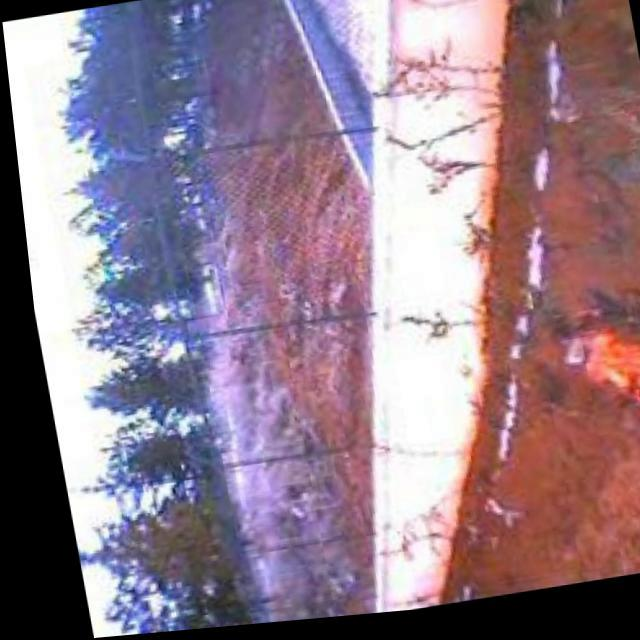fire: (547, 318, 640, 486)
